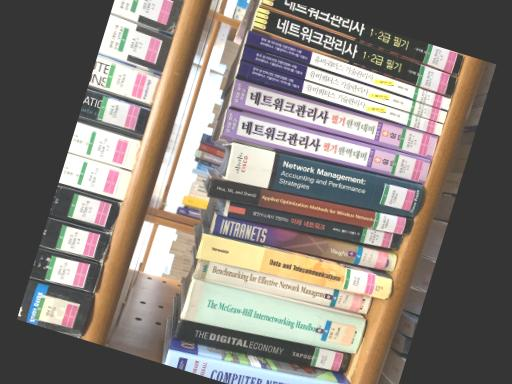book-spine: (253, 5, 458, 97), (230, 78, 437, 159), (244, 30, 450, 110), (240, 44, 446, 123), (220, 107, 431, 183), (236, 60, 443, 135), (260, 0, 464, 76), (224, 142, 423, 217), (179, 276, 366, 353), (196, 232, 392, 298), (208, 178, 412, 234), (212, 214, 398, 272), (193, 258, 373, 314), (172, 318, 350, 372), (227, 202, 403, 250), (165, 348, 346, 384)
